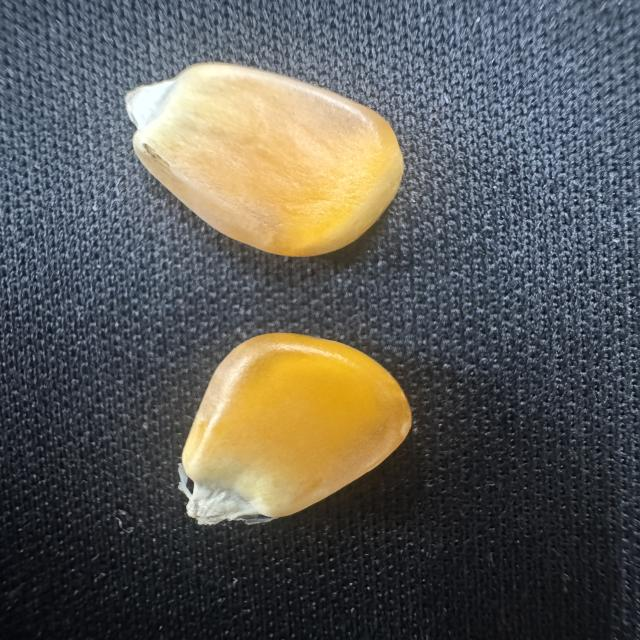Good-Seed: (117, 53, 409, 263), (168, 326, 418, 536)
